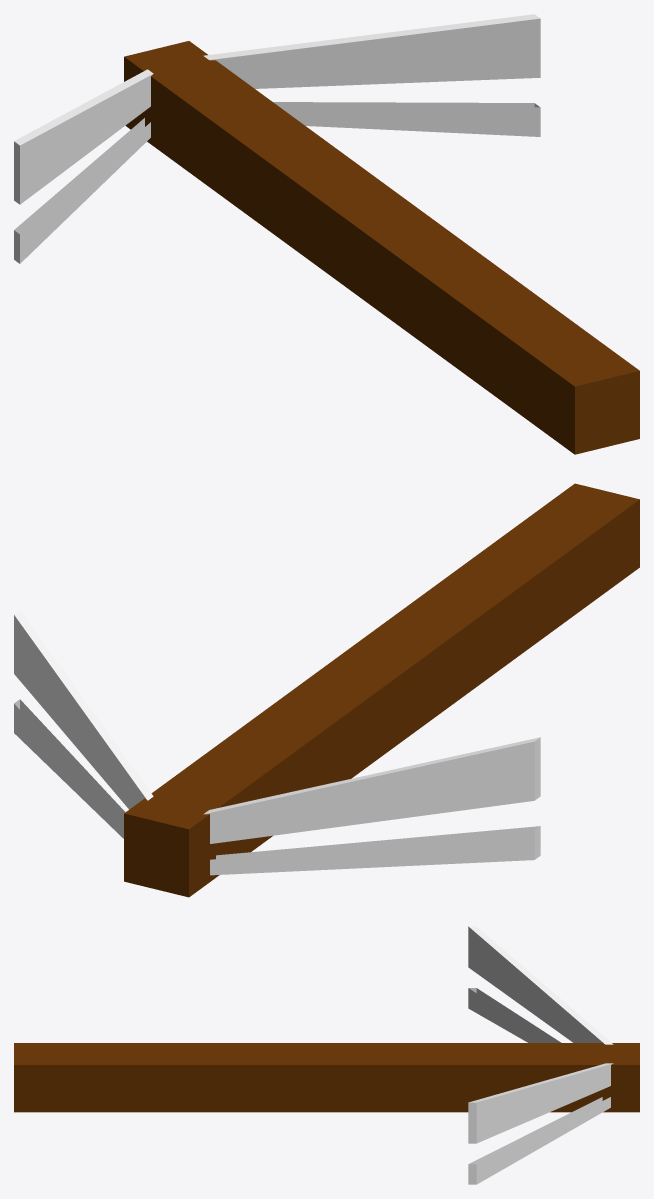
Rendered from big_crossbow.glb.
3 renders of one model, top to bottom at view 1: azimuth 30°, elevation 25°; view 2: azimuth 150°, elevation 25°; view 3: azimuth 270°, elevation 25°, orthographic. The views are drawn at different scales.
Visible parts, largest first — view 1: Cube, Cube.001; view 2: Cube, Cube.001; view 3: Cube, Cube.001.
Part boxes in pixels (x1,y1,x2,y2): Cube: (124,41,639,454); Cube.001: (14,14,540,263); Cube: (124,483,639,897); Cube.001: (14,610,540,875); Cube: (14,1043,639,1112); Cube.001: (468,926,613,1184).
Bounding box in the file's own units: 2 × 0.4599 × 3.
